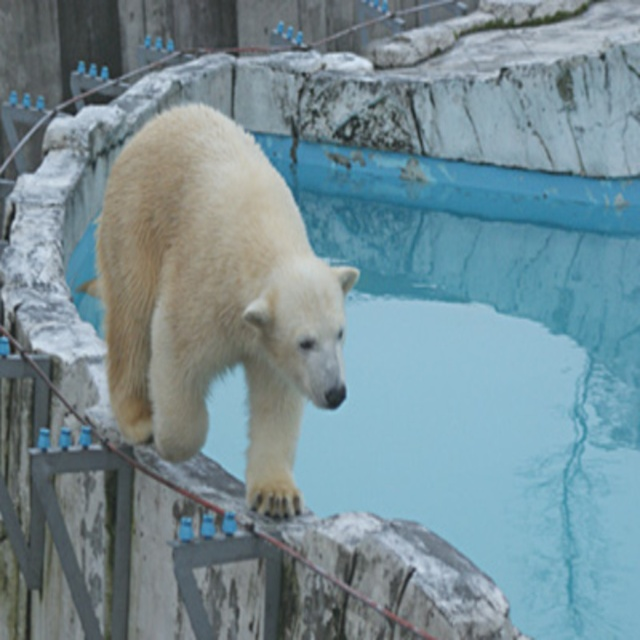Polar bear: (93, 102, 360, 529)
